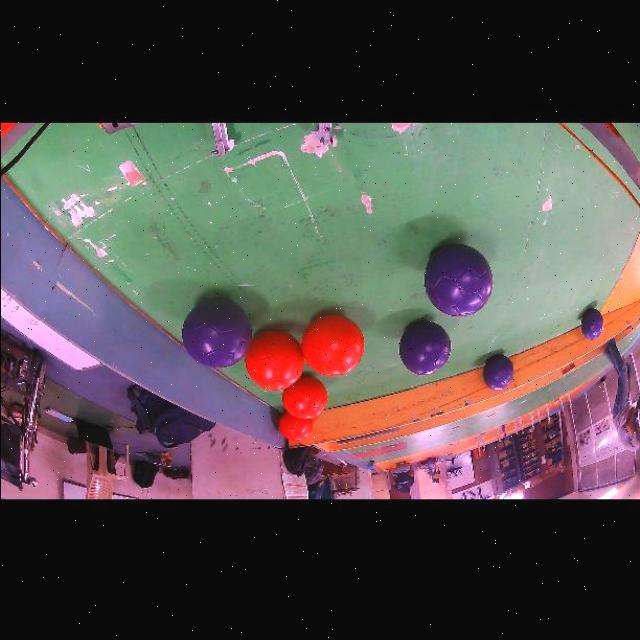P: (180, 299, 251, 369), (424, 244, 492, 316), (399, 322, 450, 375), (482, 354, 512, 389), (580, 308, 603, 340)
R: (301, 315, 363, 376), (244, 330, 303, 391), (281, 375, 327, 420), (277, 412, 312, 440)
